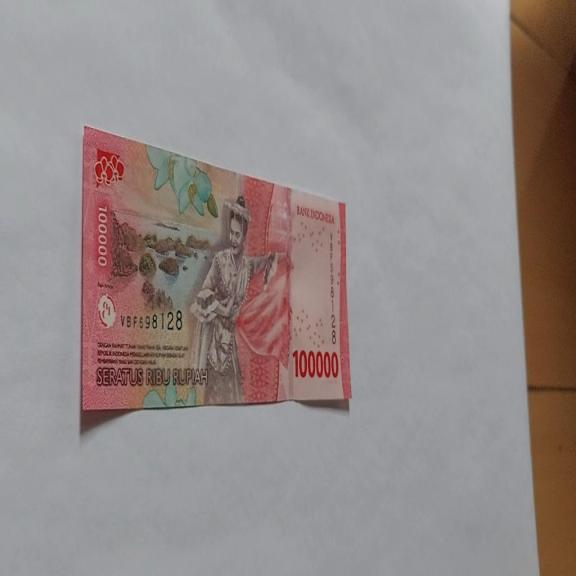Kertas: (80, 124, 352, 415), (292, 347, 340, 381)
